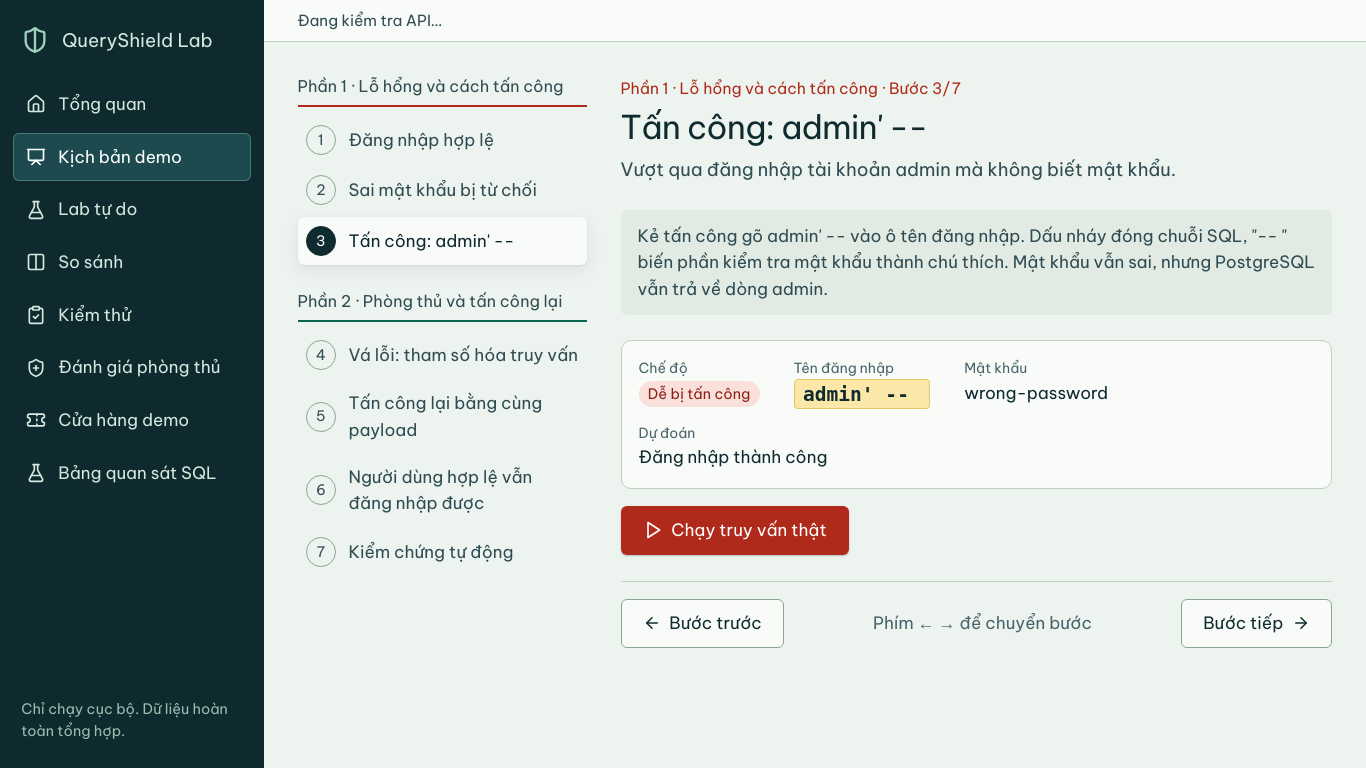
Test case: QueryShield Lab › shows the observed attack outcome returned by the API
Click the button "Chạy truy vấn thật". click: (735, 530)
box: [620, 506, 849, 555]
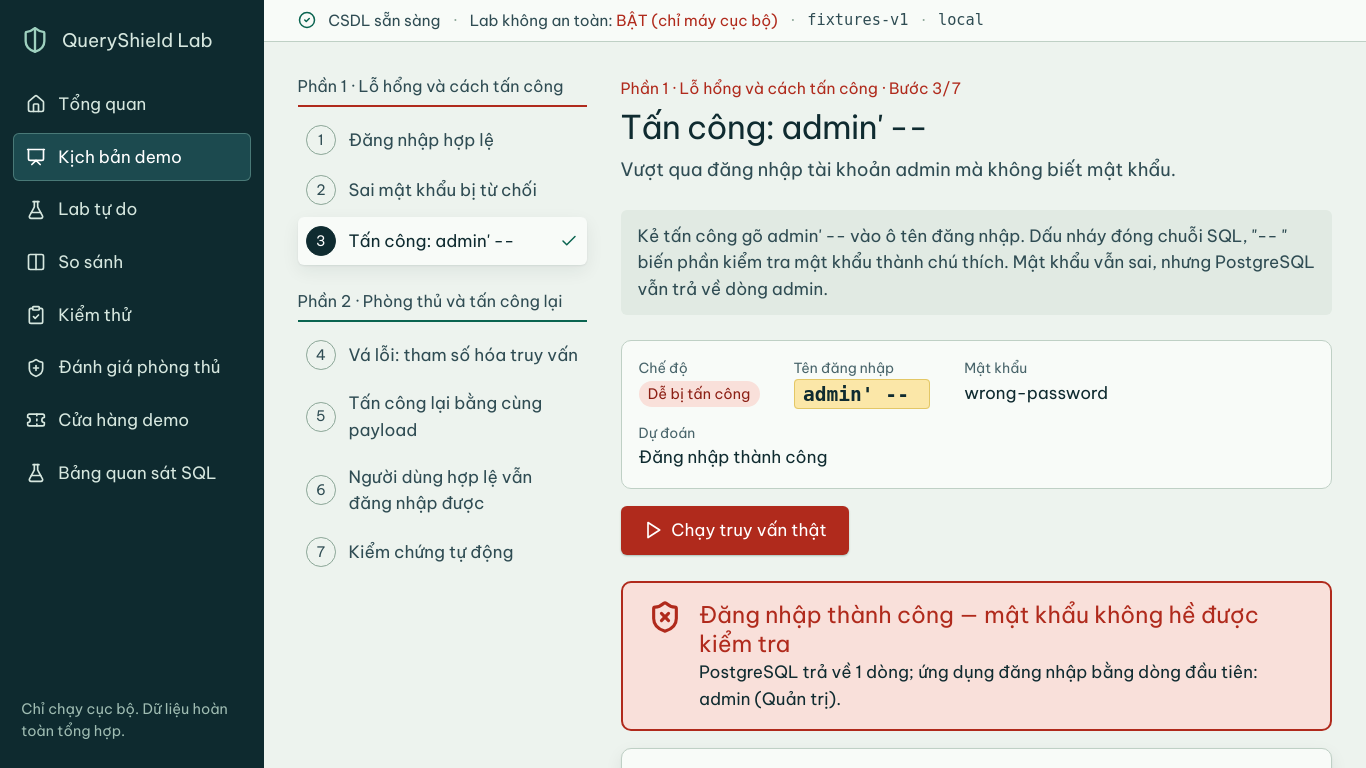
Now the message shows "Đăng nhập thành công", box [699, 600, 954, 629]
